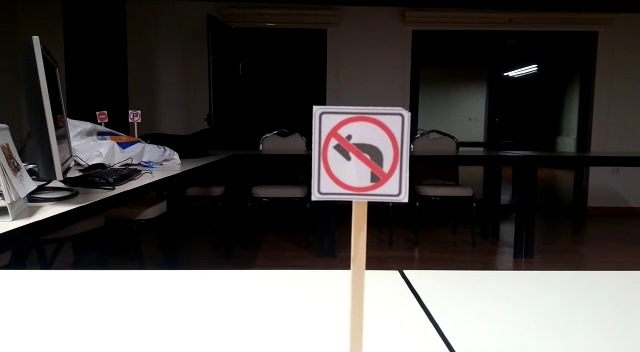sola_donulmez: (315, 118, 397, 196)
